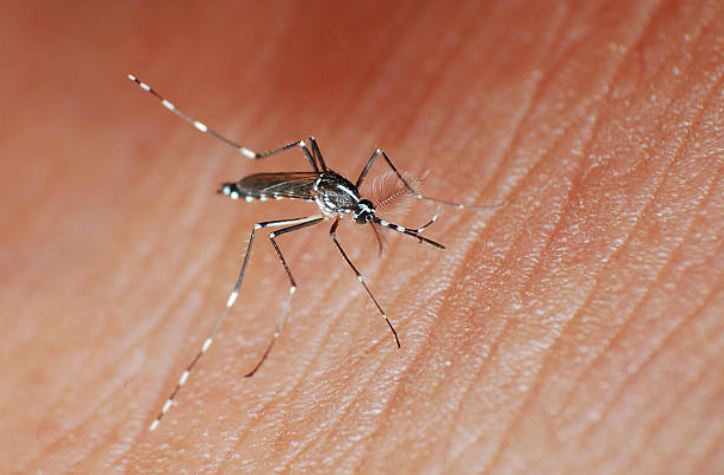dengue_mosquito: (127, 70, 446, 350)
